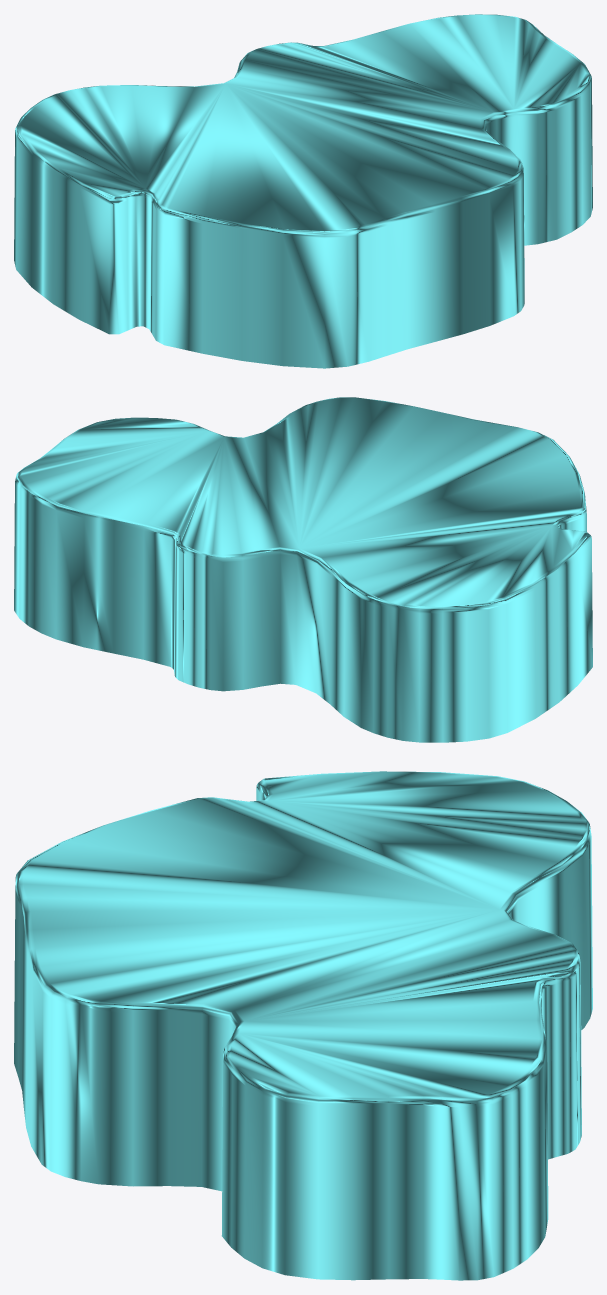
Rendered from lorville_noflyzone_suburb_redout_10.glb.
3 views of the same model, one above another, from view 1: azimuth 30°, elevation 25°; view 2: azimuth 150°, elevation 25°; view 3: azimuth 270°, elevation 25° (orthographic). The views are drawn at different scales.
Bounding box in the file's own units: 6320 × 1591 × 4651.
